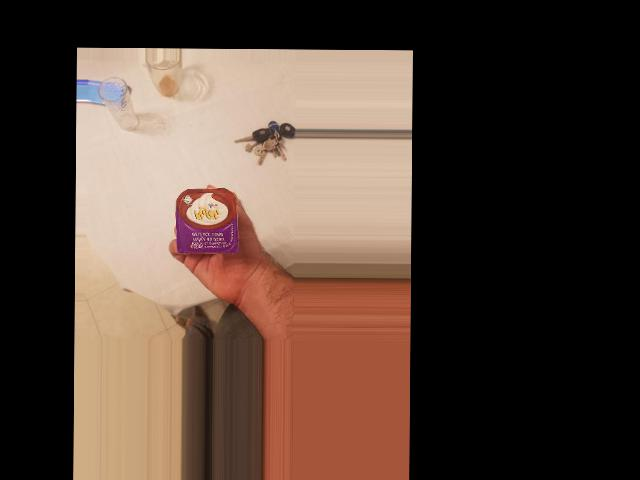milky: (98, 145, 168, 215)
